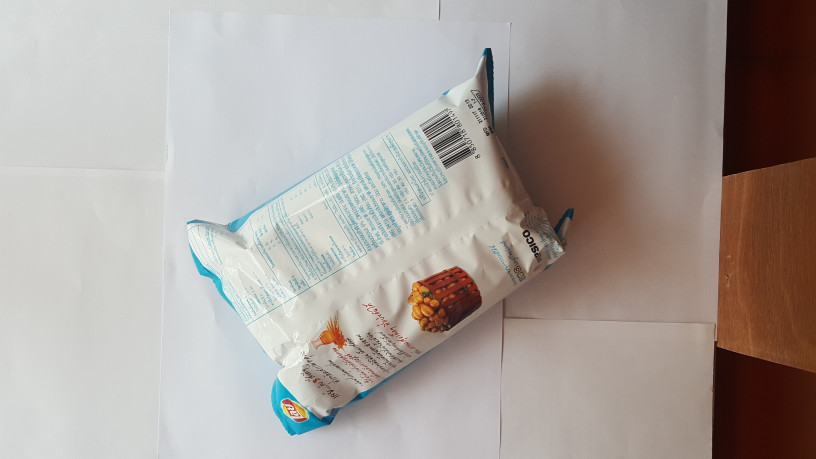lays-onion: (179, 65, 577, 434)
